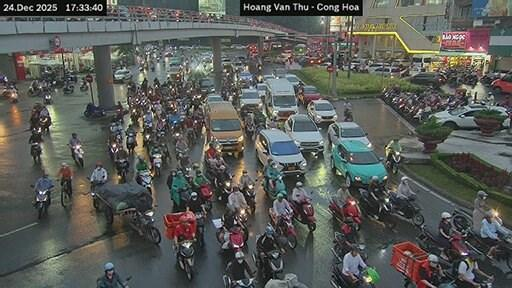motorbike: (329, 250, 377, 287), (358, 188, 394, 228), (387, 189, 423, 224), (329, 259, 374, 287), (268, 207, 297, 247), (128, 208, 160, 243), (327, 197, 361, 229), (252, 250, 282, 278), (288, 198, 314, 230), (416, 225, 442, 253), (176, 239, 194, 279), (220, 225, 245, 253), (444, 234, 469, 261), (493, 235, 511, 268), (466, 229, 489, 253), (262, 175, 284, 198), (330, 232, 349, 257), (89, 180, 103, 210), (217, 175, 233, 201), (236, 207, 248, 241), (242, 183, 255, 212), (224, 274, 253, 287), (35, 189, 48, 217), (349, 241, 367, 260), (384, 151, 400, 172), (195, 211, 204, 246), (136, 171, 150, 192), (178, 153, 192, 174), (199, 184, 210, 210), (83, 103, 105, 116), (115, 158, 128, 180), (29, 142, 41, 162), (2, 85, 16, 102), (73, 144, 83, 166), (125, 131, 135, 153), (153, 153, 162, 175), (160, 140, 169, 161), (108, 142, 118, 160), (38, 116, 50, 131), (26, 84, 41, 94), (143, 129, 150, 148), (245, 122, 253, 138), (186, 129, 195, 143), (63, 81, 73, 93), (42, 90, 51, 103), (344, 108, 351, 121), (156, 129, 165, 139), (86, 176, 89, 179), (31, 184, 32, 187)
